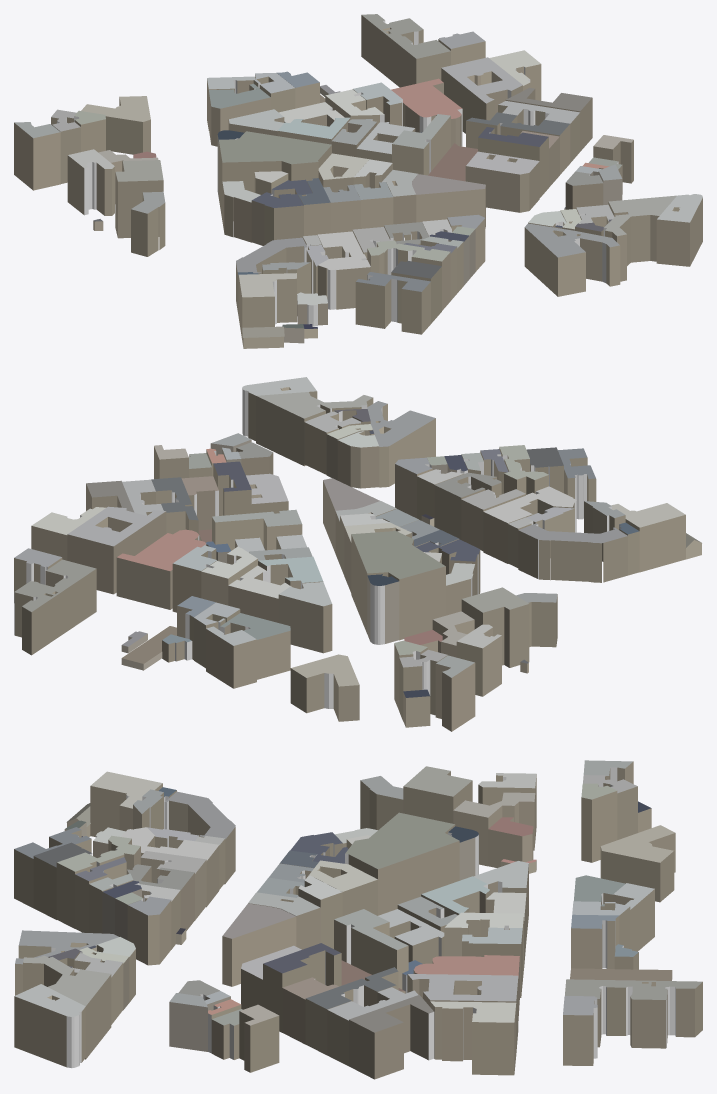
3 views of the same model, one above another, from view 1: azimuth 30°, elevation 25°; view 2: azimuth 150°, elevation 25°; view 3: azimuth 270°, elevation 25° (orthographic). The views are drawn at different scales.
Visible parts, largest first — view 1: tuile; view 2: tuile; view 3: tuile.
Part boxes in pixels (left/top/right/bottom): tuile: left=14, top=14, right=702, bottom=348; tuile: left=14, top=377, right=701, bottom=731; tuile: left=14, top=760, right=702, bottom=1079.
Size of the model in its own units: 266 by 33.1 by 290.
